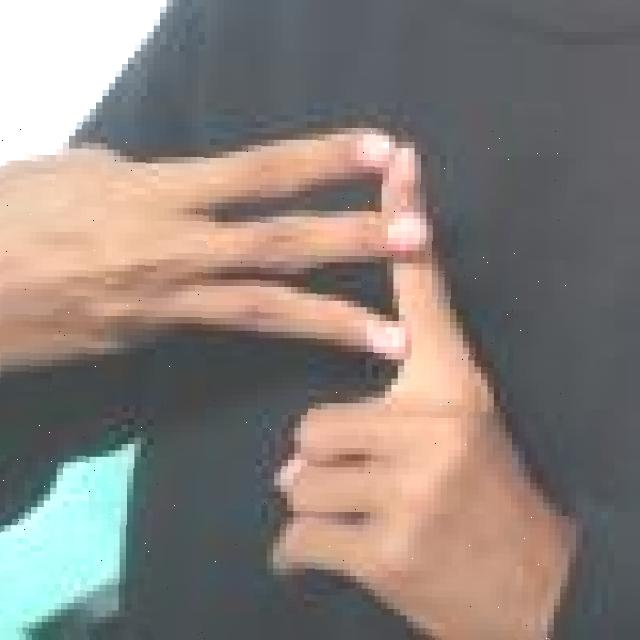B: (2, 130, 570, 639)
